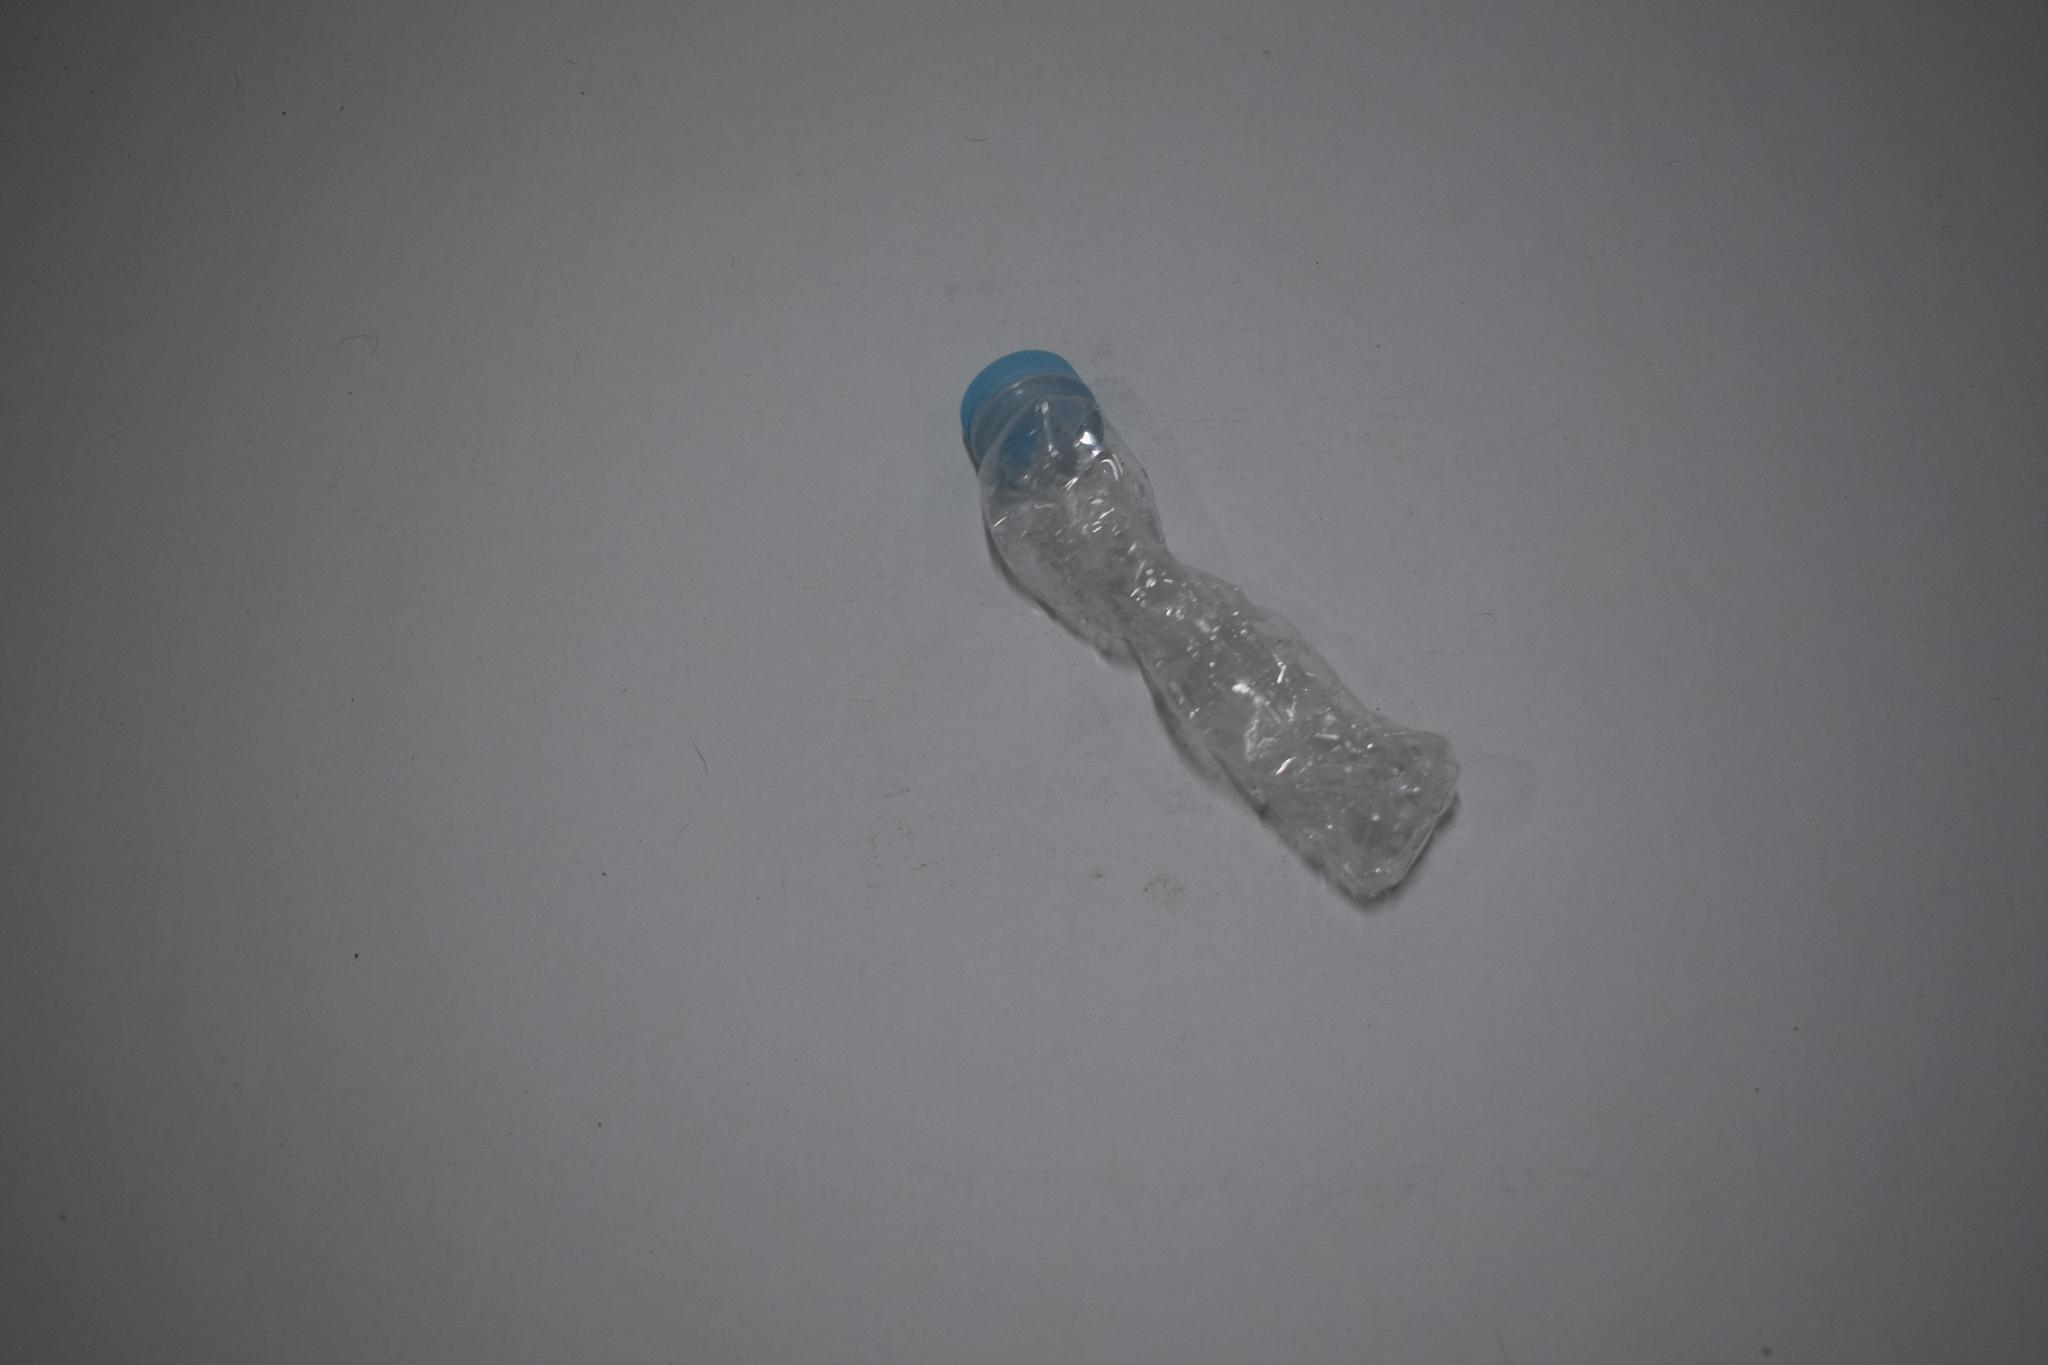bottle: (953, 317, 1489, 911)
